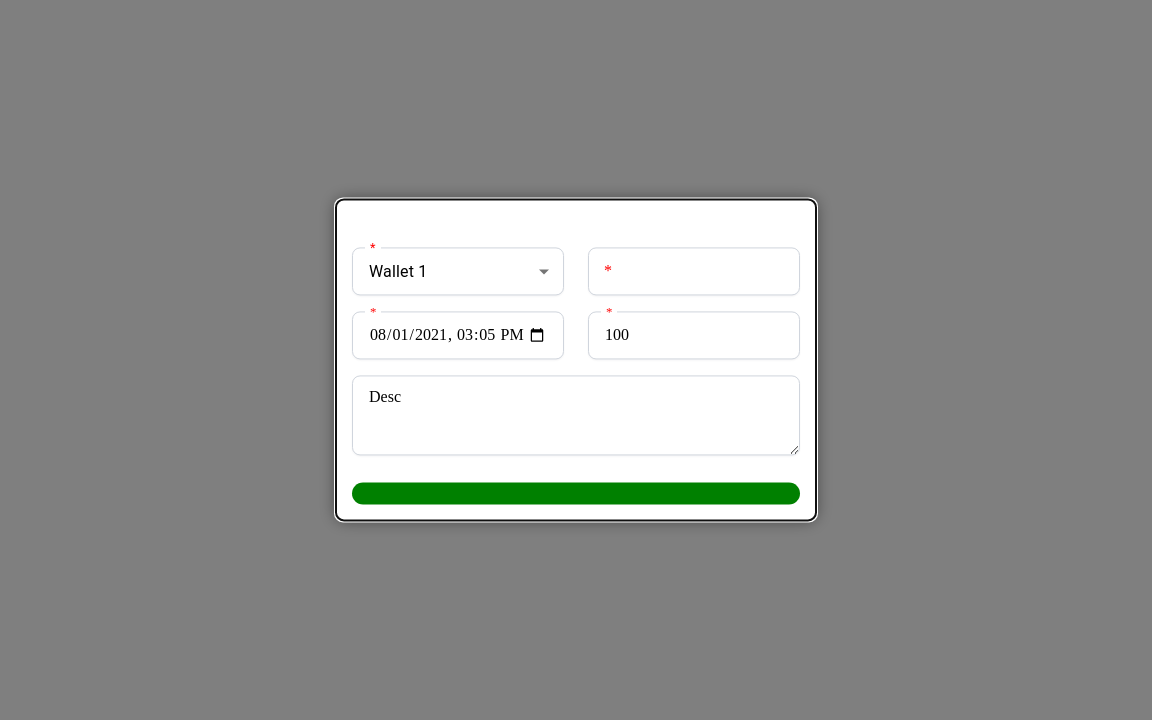
Scenario: UpdateTransactionModal › render. Few wallets with same currency like in transactions
Expected: the element showing "Wallet 1" does not have attribute disabled, [352, 247, 564, 295]
Step 1. Press the mouse on the dropdown labelled "Wallet 1" → (398, 271), box [369, 262, 427, 281]
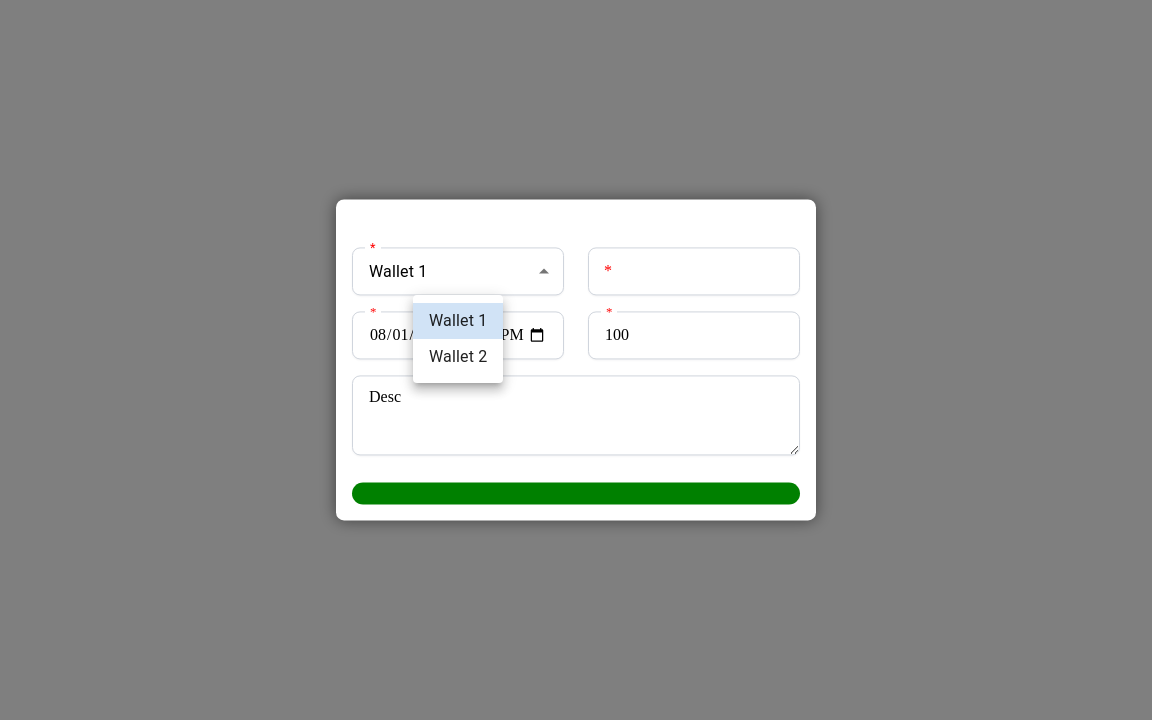
Result: the text "Wallet 1" is shown at [429, 309, 487, 333]
Result: the text "Wallet 2" is shown at [429, 345, 487, 369]
